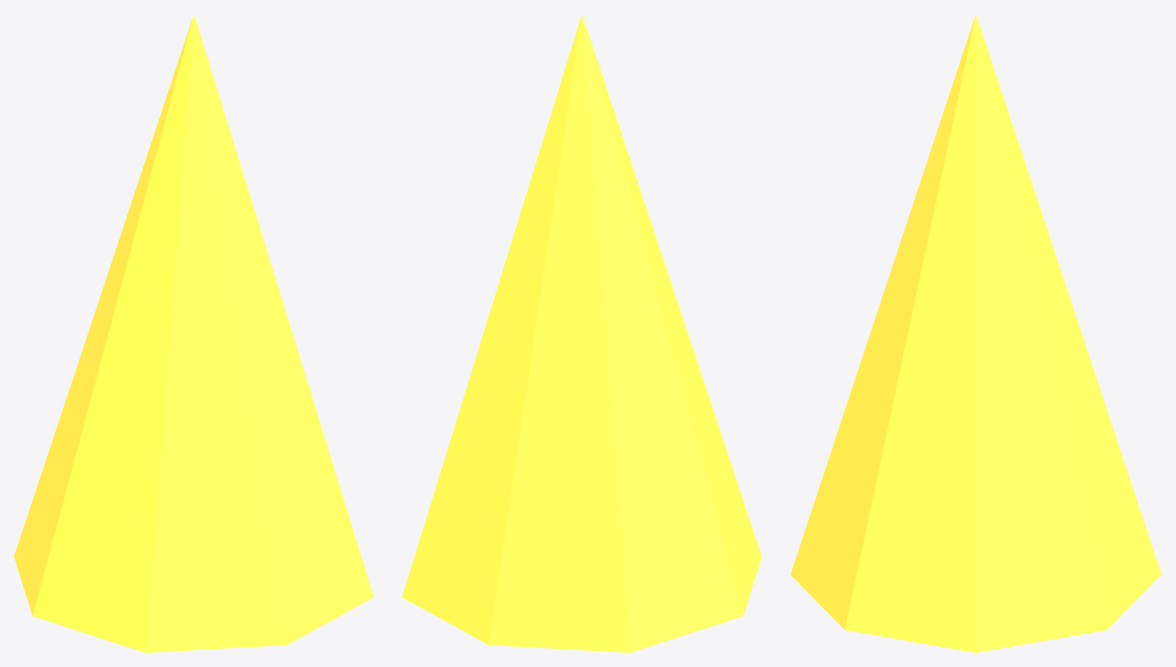
The model's file is SM_Keeper_Seraphs_Ember6.fbx.
3 renders of one model, left to right at view 1: azimuth 30°, elevation 25°; view 2: azimuth 150°, elevation 25°; view 3: azimuth 270°, elevation 25°, orthographic.
Parts seen in each view (by area): view 1: SM_Keeper_Seraphs_Ember6; view 2: SM_Keeper_Seraphs_Ember6; view 3: SM_Keeper_Seraphs_Ember6.
Boxes of the visible parts, x1,y1,x2,y2 form: SM_Keeper_Seraphs_Ember6: [14, 15, 373, 652]; SM_Keeper_Seraphs_Ember6: [402, 15, 761, 652]; SM_Keeper_Seraphs_Ember6: [790, 15, 1161, 652].
Bounding box in the file's own units: 0.36 × 0.6 × 0.36.
